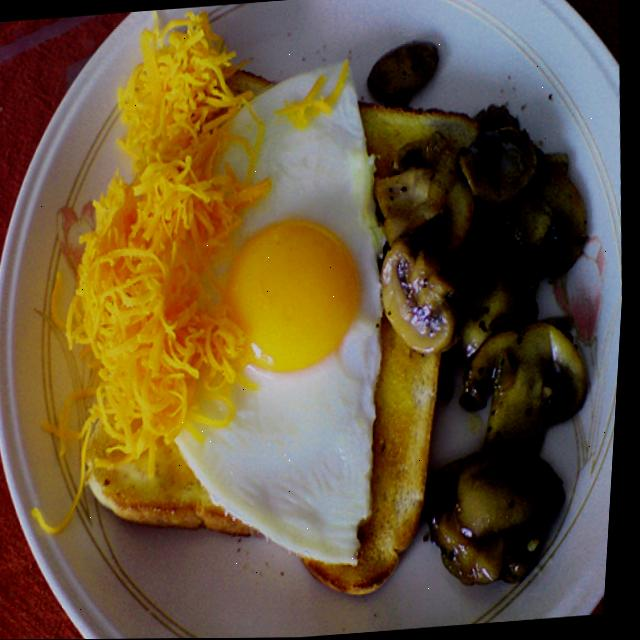鸡蛋料理: (141, 50, 411, 582)
